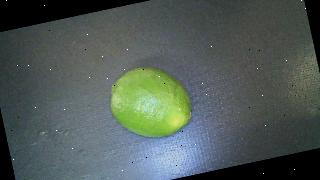EXPORTACION: (104, 59, 197, 146)
